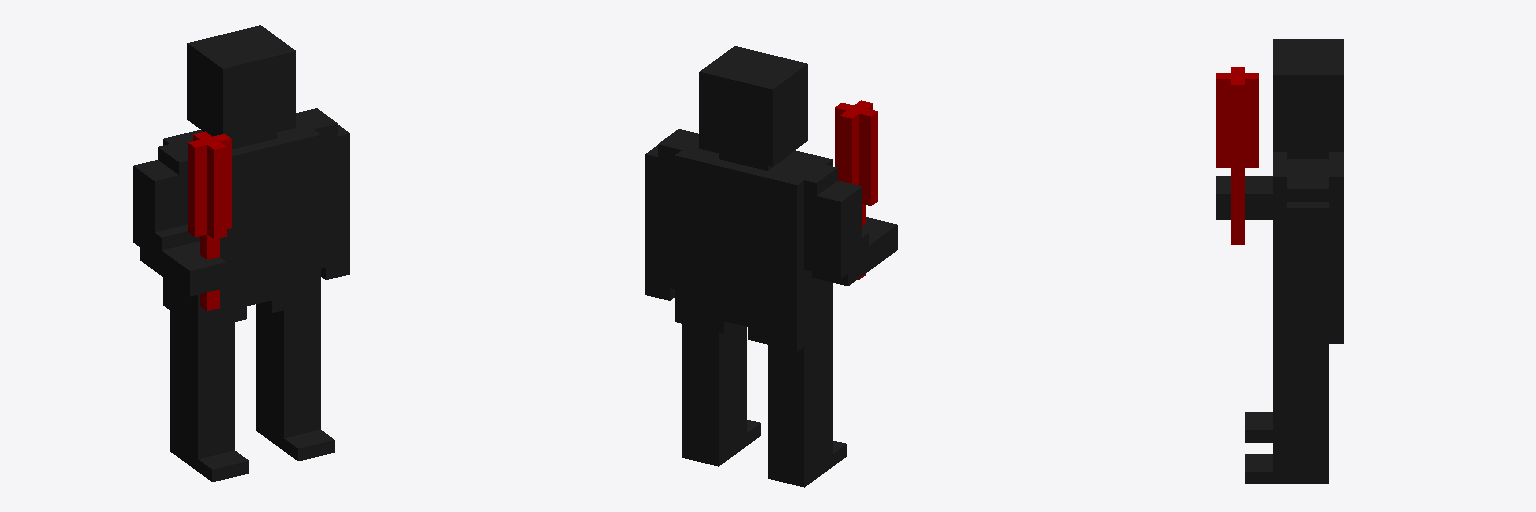
3 renders of one model, left to right at view 1: azimuth 30°, elevation 25°; view 2: azimuth 150°, elevation 25°; view 3: azimuth 270°, elevation 25°, orthographic.
Visible parts, largest first — view 1: object 1; view 2: object 1; view 3: object 1.
Part boxes in pixels (x1,y1,x2,y2): object 1: (133,25,349,481); object 1: (645,46,897,487); object 1: (1216,39,1343,483).
Size of the model in its own units: 1.6 by 3.1 by 0.9.
Materials: 1 (1 with a texture image).